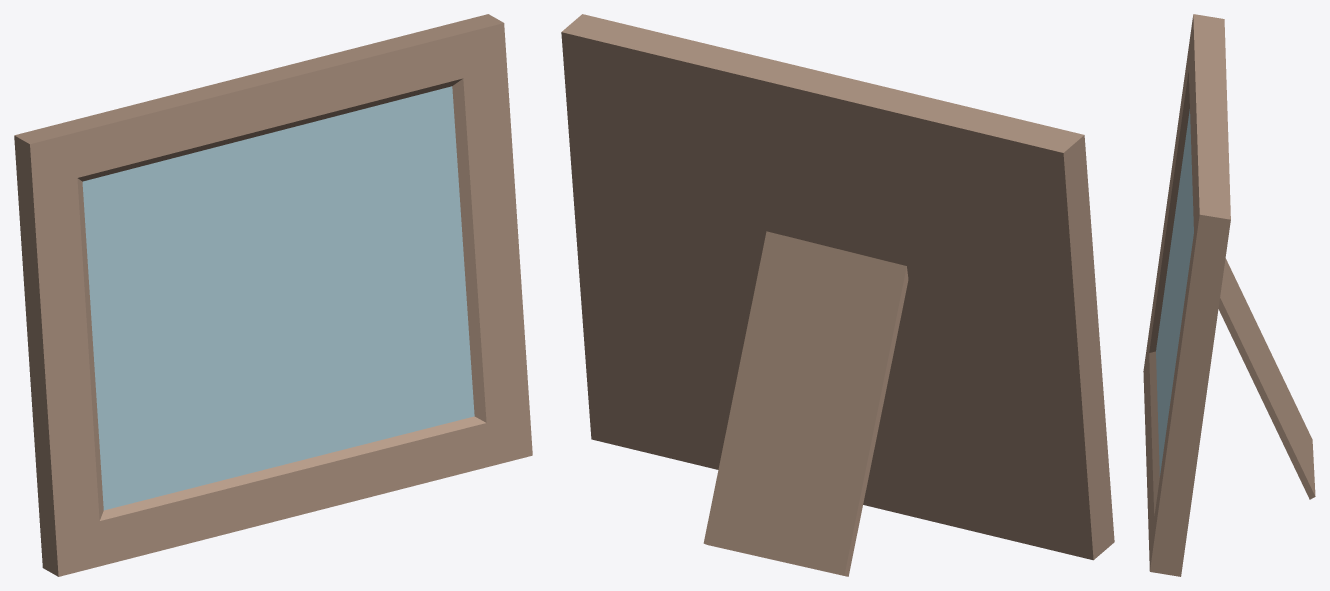
Rendered from Photoframe_2.fbx.
3 views of the same model, side by side, from view 1: azimuth 30°, elevation 25°; view 2: azimuth 150°, elevation 25°; view 3: azimuth 270°, elevation 25° (orthographic). The views are drawn at different scales.
Parts seen in each view (by area): view 1: Photoframe_2; view 2: Photoframe_2; view 3: Photoframe_2.
Part boxes in pixels (bbox=[...]): Photoframe_2: bbox=[14, 14, 532, 576]; Photoframe_2: bbox=[561, 14, 1114, 576]; Photoframe_2: bbox=[1143, 14, 1315, 576].
Bounding box in the file's own units: 26.3 × 9.4 × 21.9.
